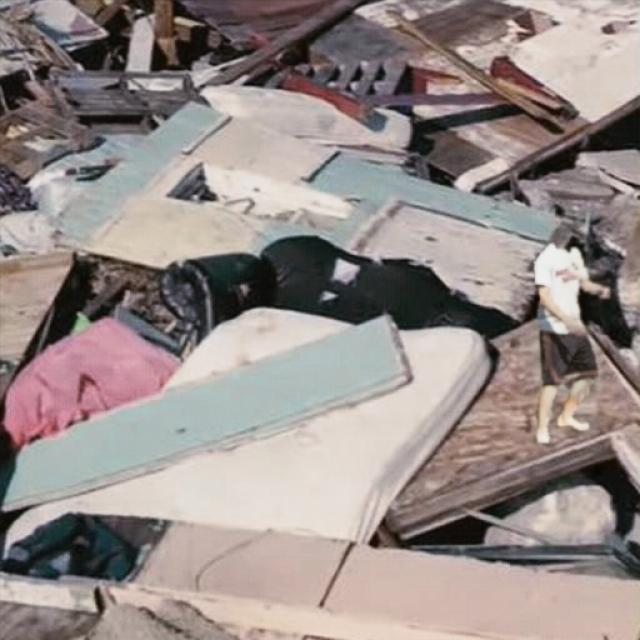Person in Rubble: (534, 243, 608, 442)
